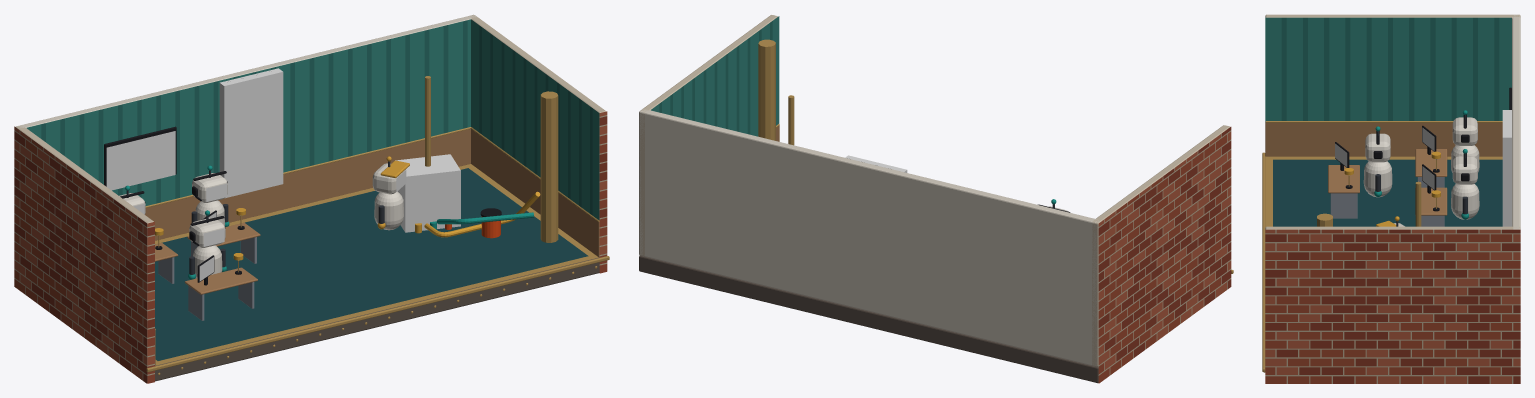
Rendered from agents.glb.
The picture shows the model from 3 angles, left to right: view 1: azimuth 30°, elevation 25°; view 2: azimuth 150°, elevation 25°; view 3: azimuth 270°, elevation 25°; orthographic projection. The views are drawn at different scales.
Parts seen in each view (by area): view 1: static, hit__phone, hit__sorter, screens, dyn__sorter__body, dyn__sorter__head, dyn__op-3__head, dyn__op-2__head, dyn__op-3__body; view 2: static; view 3: static, hit__phone, dyn__op-2__body, dyn__op-3__body, dyn__op-3__head, dyn__op-2__head, dyn__op-1__head, screens, dyn__op-1__body.
Boxes of the visible parts, x1,y1,x2,y2 form: static: (14, 14, 609, 383); hit__phone: (219, 68, 283, 198); hit__sorter: (395, 154, 460, 232); screens: (106, 131, 216, 281); dyn__sorter__body: (374, 191, 403, 230); dyn__sorter__head: (372, 156, 409, 194); dyn__op-3__head: (189, 210, 225, 247); dyn__op-2__head: (192, 165, 227, 202); dyn__op-3__body: (193, 245, 222, 278); static: (639, 15, 1233, 383); static: (1262, 14, 1520, 383); hit__phone: (1502, 110, 1511, 226); dyn__op-2__body: (1451, 184, 1479, 219); dyn__op-3__body: (1363, 161, 1392, 197); dyn__op-3__head: (1365, 126, 1390, 162); dyn__op-2__head: (1452, 149, 1477, 184); dyn__op-1__head: (1452, 110, 1477, 145); screens: (1335, 127, 1434, 189); dyn__op-1__body: (1451, 145, 1479, 172).
Size of the model in its own units: 12.06 by 4 by 6.07.
